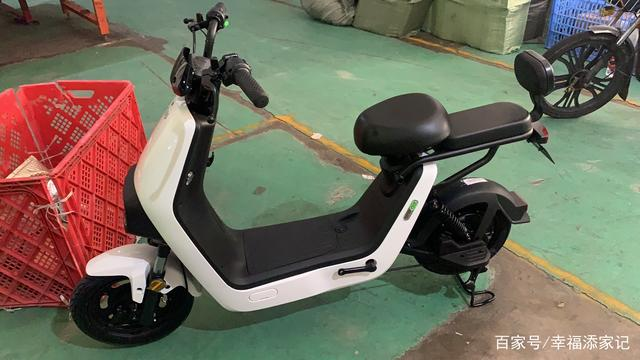电动车: (69, 2, 538, 348)
